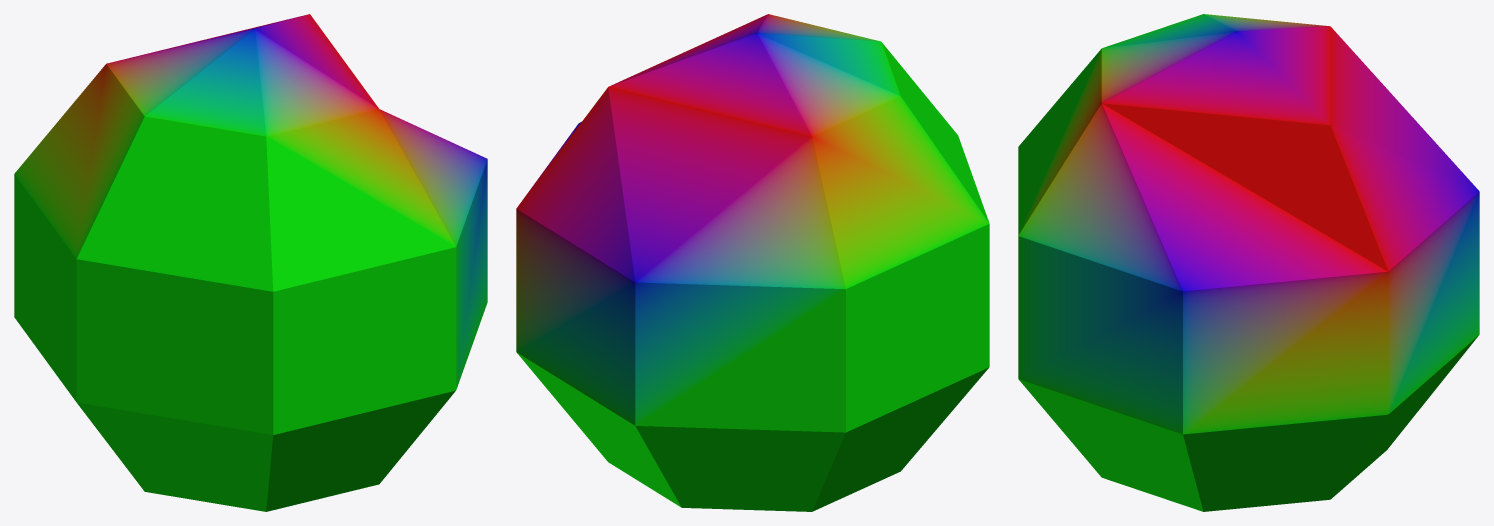
Rendered from after_retriangulation_type_colored_1.obj.
3 renders of one model, left to right at view 1: azimuth 30°, elevation 25°; view 2: azimuth 150°, elevation 25°; view 3: azimuth 270°, elevation 25°, orthographic.
Size of the model in its own units: 1.85 by 2 by 1.81.
